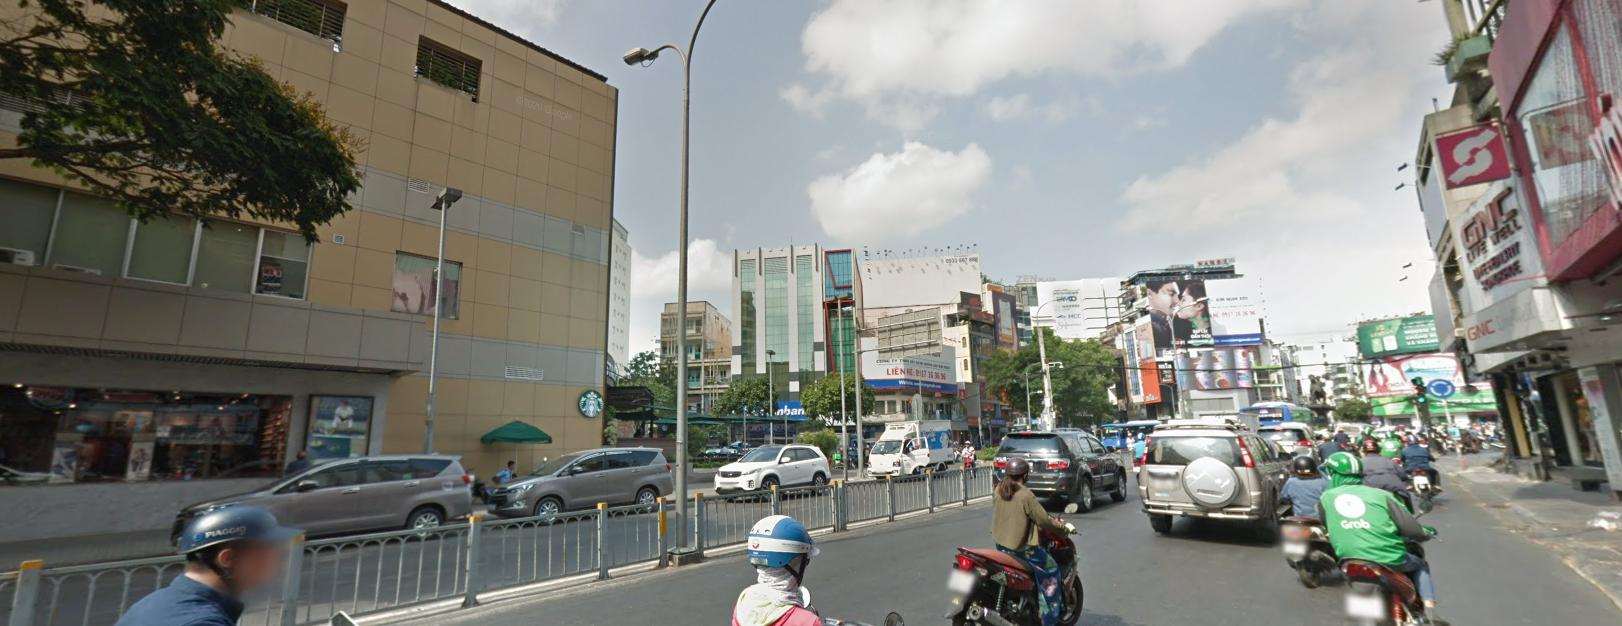Hieu lenh: (1424, 376, 1456, 397)
